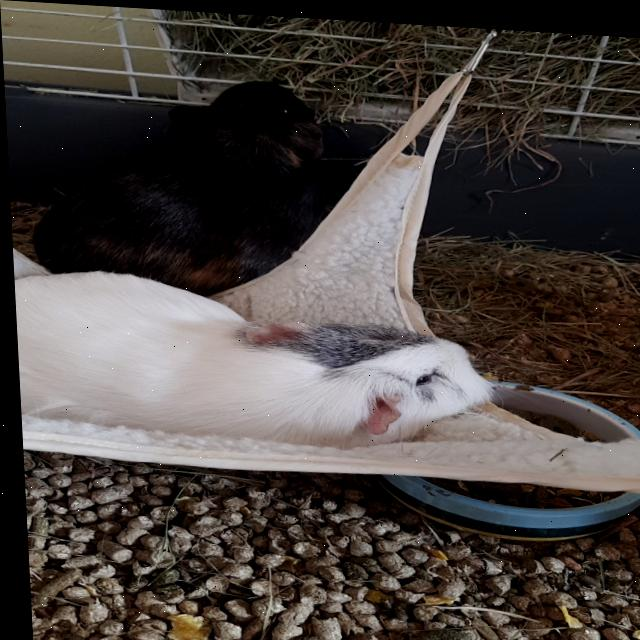guinea pig: (11, 263, 496, 447), (20, 63, 344, 292)
